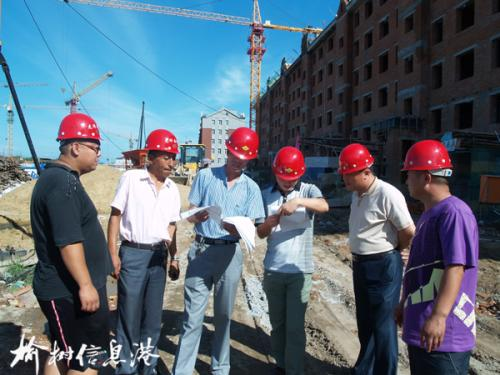hard-hat: (399, 139, 454, 172), (56, 113, 102, 141), (224, 126, 259, 161), (271, 146, 306, 180), (337, 143, 375, 174), (143, 128, 179, 153)
person: (170, 126, 267, 374), (30, 113, 117, 375), (394, 138, 480, 374), (105, 129, 182, 375), (337, 143, 417, 375), (256, 146, 328, 375)
